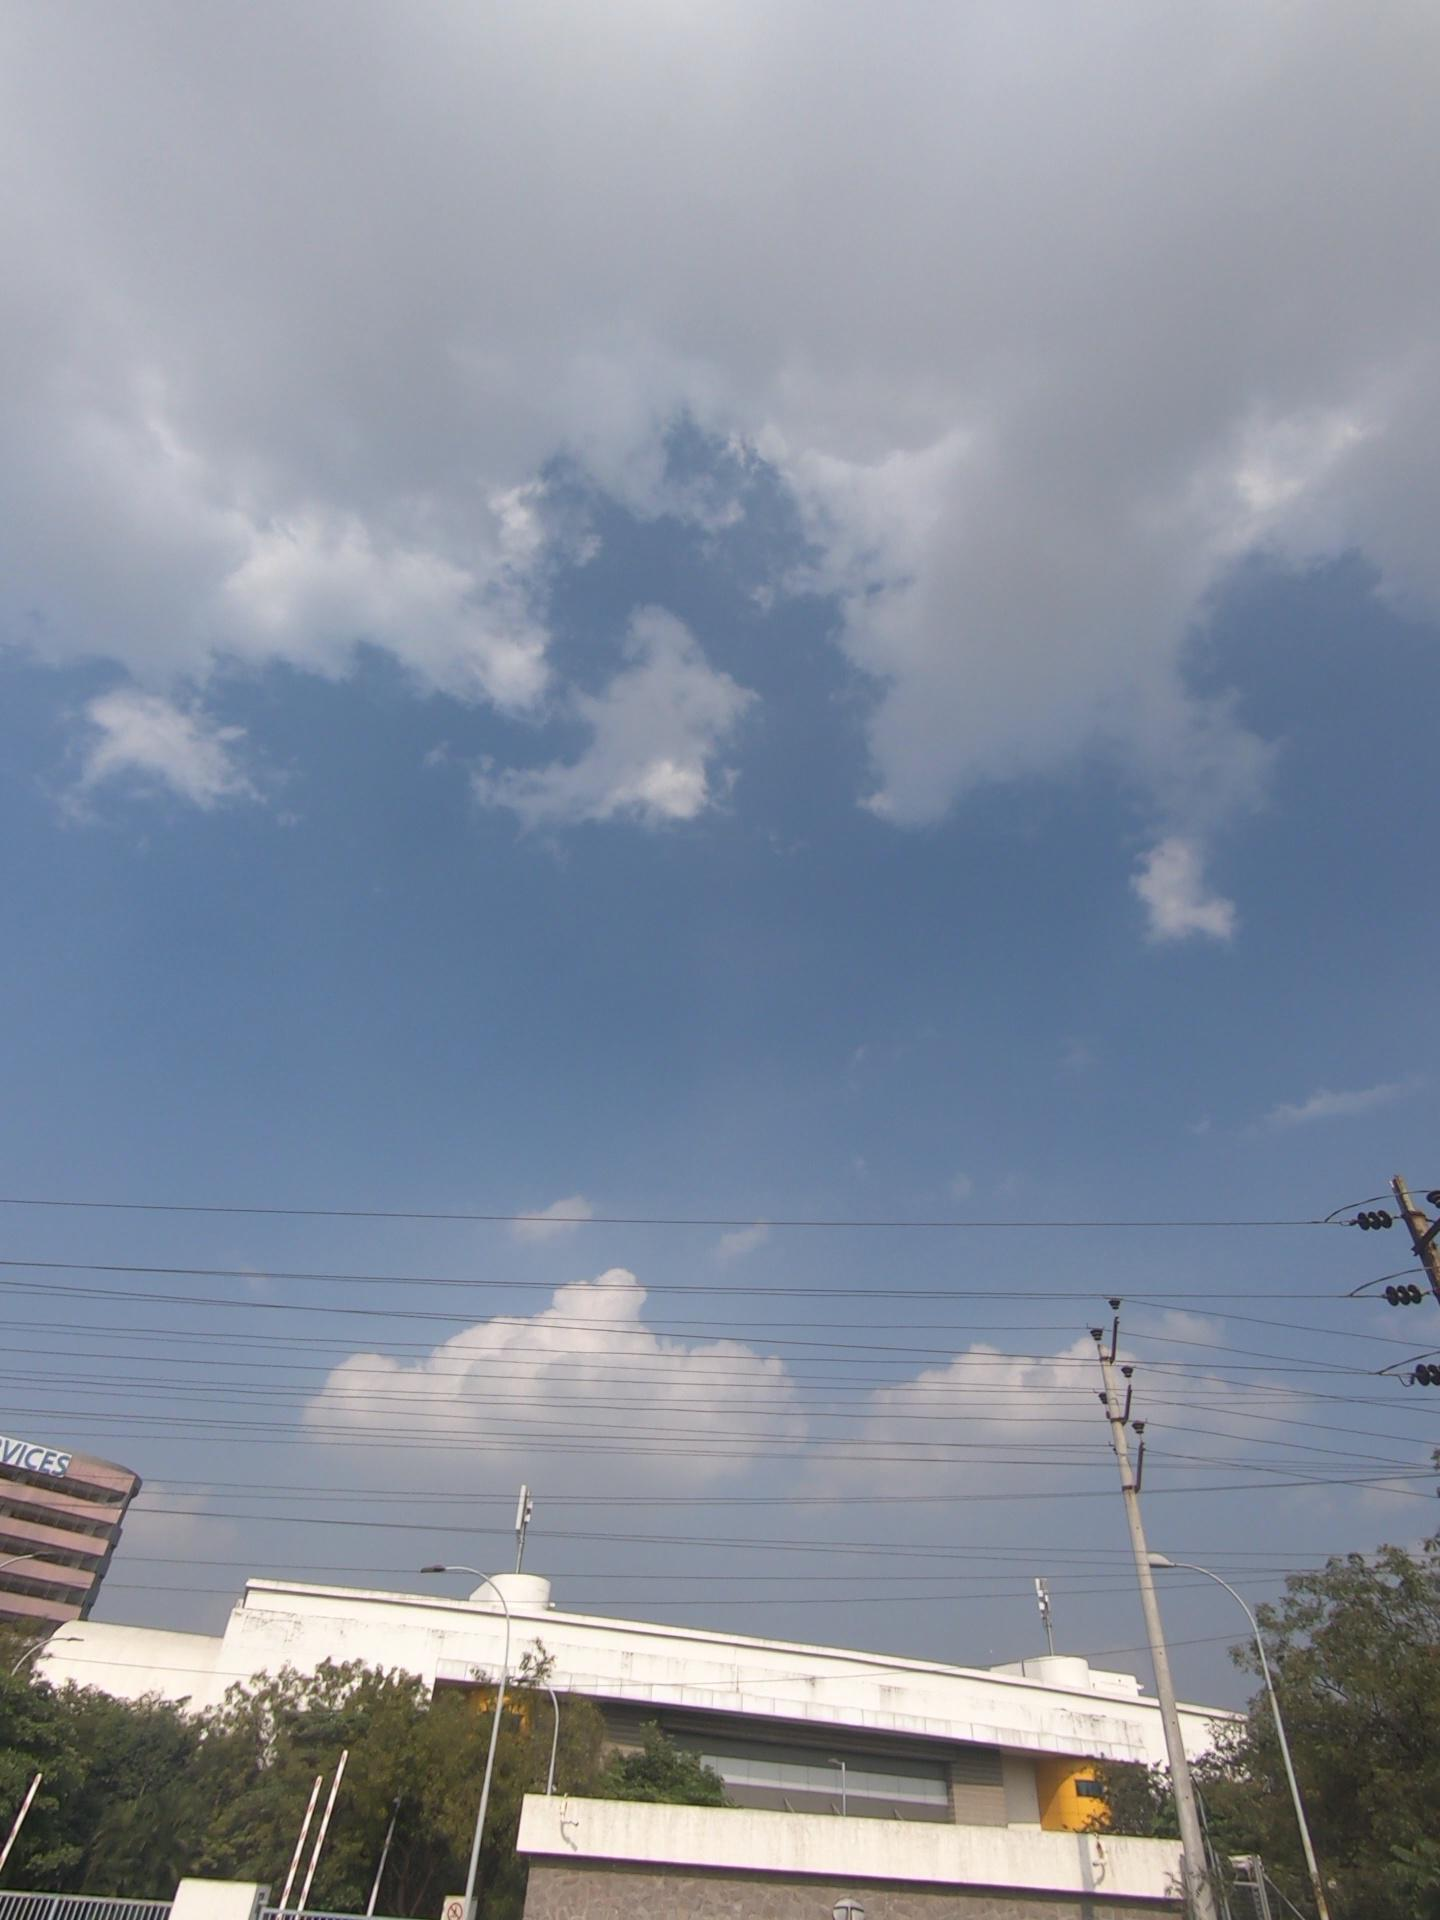off: (141, 1621, 572, 1920)
